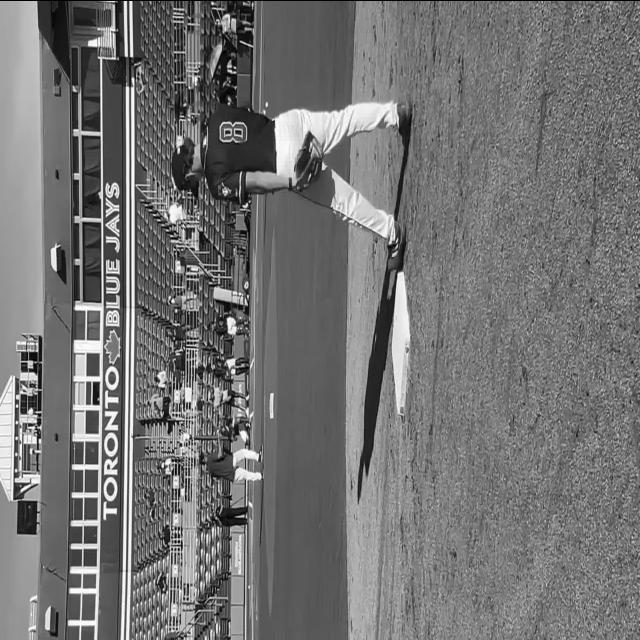base: (391, 273, 409, 419)
baseball_glove: (292, 130, 324, 192)
shoe: (386, 220, 406, 272), (396, 100, 412, 140), (259, 444, 263, 462), (245, 406, 249, 418), (260, 470, 264, 480)
